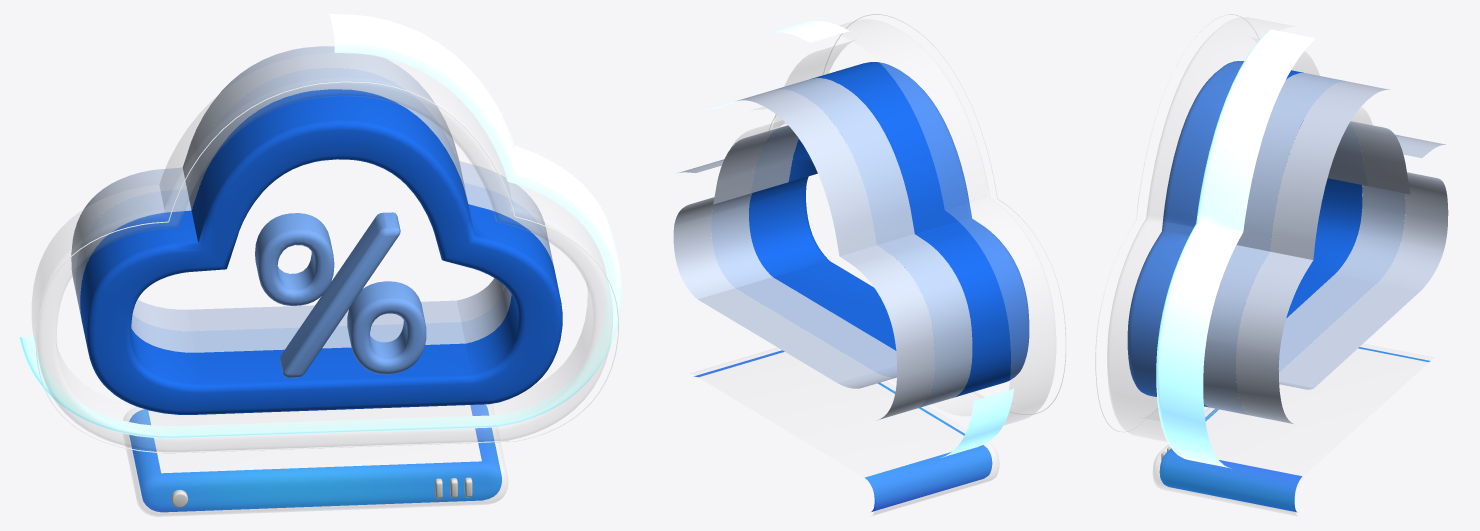
3 views of the same model, side by side, from view 1: azimuth 30°, elevation 25°; view 2: azimuth 150°, elevation 25°; view 3: azimuth 270°, elevation 25° (orthographic). The views are drawn at different scales.
Visible parts, largest first — view 1: 挤压3, 挤压2, 上颜色, 挤压4, 挤压_1, 挤压1, 挤压, 上颜色1, 扫描3; view 2: 挤压3, 挤压1, 挤压_1, 挤压2, 上颜色, 上颜色1, 挤压4, 扫描3; view 3: 挤压1, 挤压2, 挤压4, 挤压_1, 上颜色, 挤压3, 上颜色1, 扫描3.
Boxes of the visible parts, <box> form: 挤压3: <box>80,89,562,414</box>; 挤压2: <box>32,52,612,451</box>; 上颜色: <box>123,404,507,516</box>; 挤压4: <box>19,14,621,438</box>; 挤压_1: <box>75,67,554,352</box>; 挤压1: <box>71,46,549,331</box>; 挤压: <box>255,212,426,377</box>; 上颜色1: <box>129,404,501,512</box>; 扫描3: <box>36,81,618,453</box>; 挤压3: <box>749,62,1029,397</box>; 挤压1: <box>673,89,934,420</box>; 挤压_1: <box>711,78,972,408</box>; 挤压2: <box>732,19,1055,424</box>; 上颜色: <box>690,348,999,515</box>; 上颜色1: <box>693,350,992,511</box>; 挤压4: <box>705,20,1014,457</box>; 扫描3: <box>768,14,1066,414</box>; 挤压1: <box>1236,81,1448,424</box>; 挤压2: <box>1107,17,1372,441</box>; 挤压4: <box>1156,29,1315,468</box>; 挤压_1: <box>1203,73,1405,415</box>; 上颜色: <box>1153,344,1433,515</box>; 挤压3: <box>1127,61,1362,407</box>; 上颜色1: <box>1159,347,1430,512</box>; 扫描3: <box>1095,14,1259,432</box>.
Size of the model in its own units: 29.17 by 24.29 by 19.61.
Materials: 11 (1 with a texture image).
